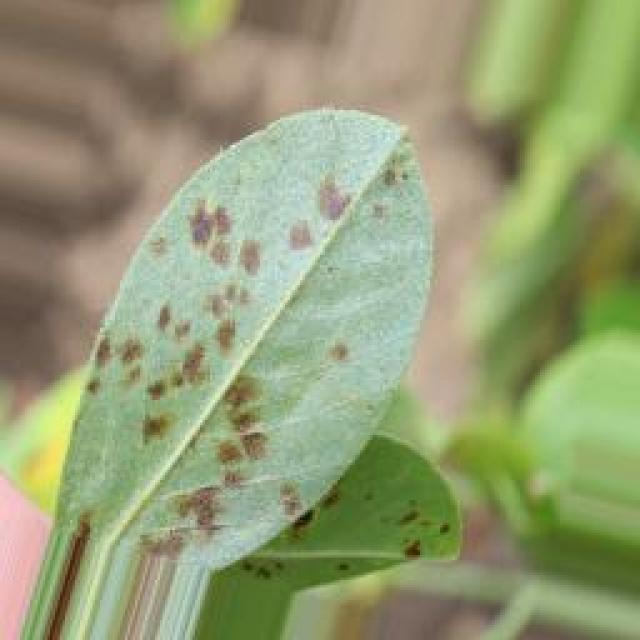Whitefly: (45, 97, 421, 567)
